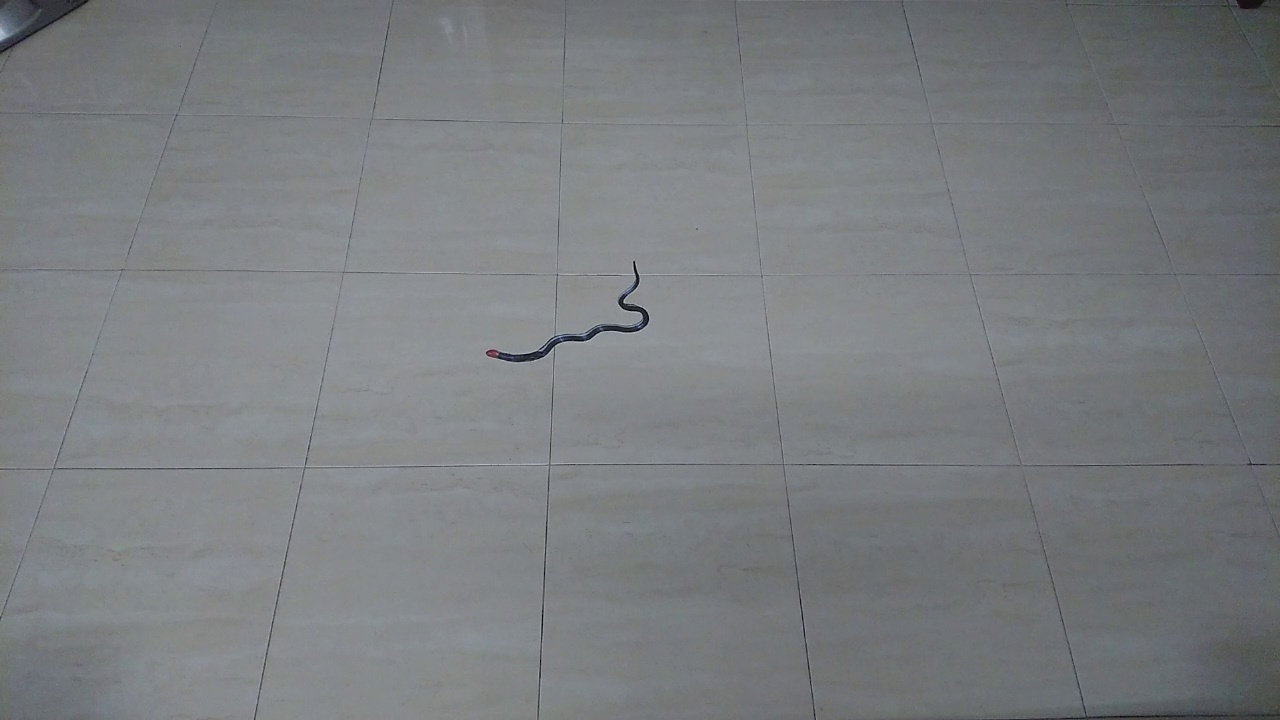snake: (473, 253, 661, 370)
